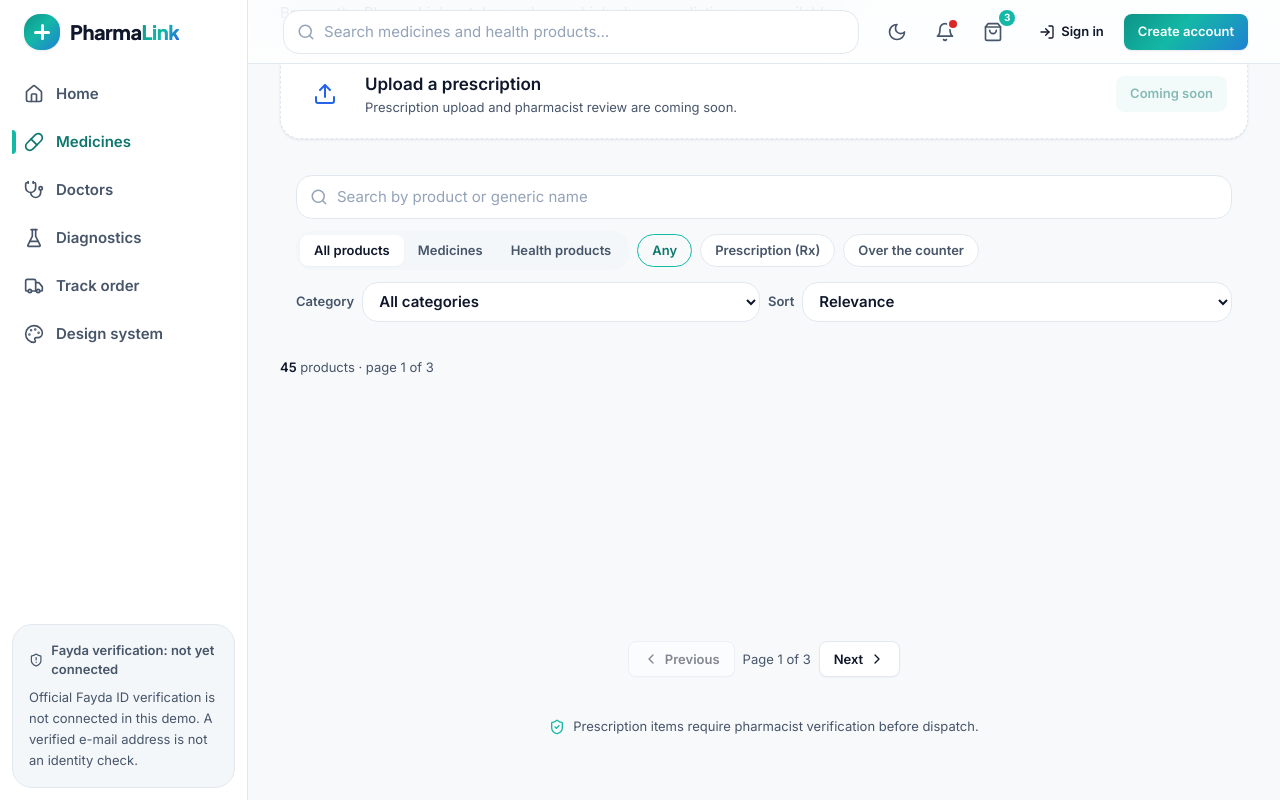
Test case: medicine listing › paginates with the backend total
(page scrolled)
Expected: the text "Page 1 of 3" is shown, [743,650,811,669]
Expected: the button "Previous" is disabled, [628,641,735,677]
Click the button "Next": {"x": 859, "y": 659} [819,641,900,677]
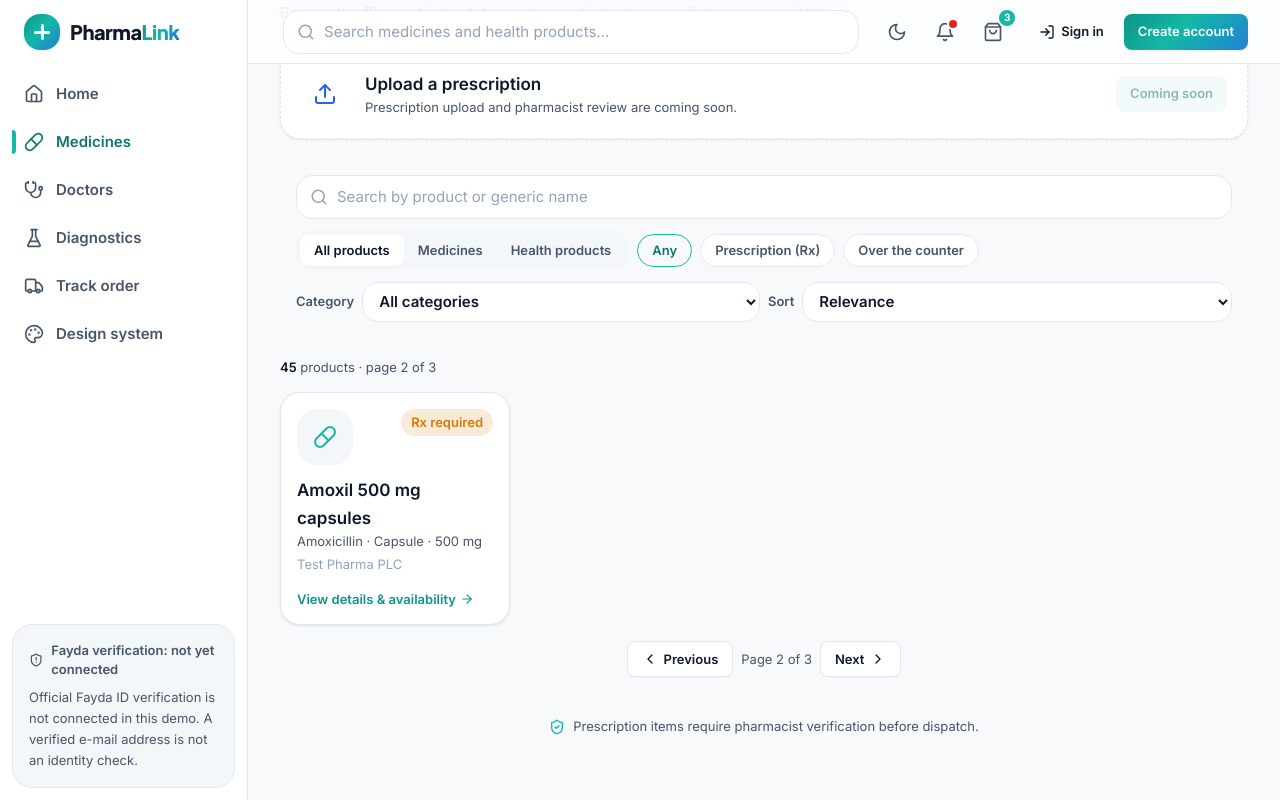
Result: the text "Page 2 of 3" is shown at [741,650,812,669]
